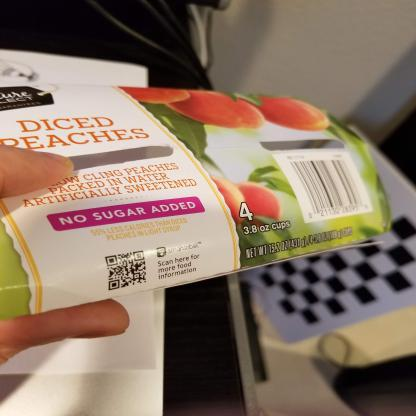barcode: (288, 156, 374, 221)
qr: (103, 248, 150, 289)
